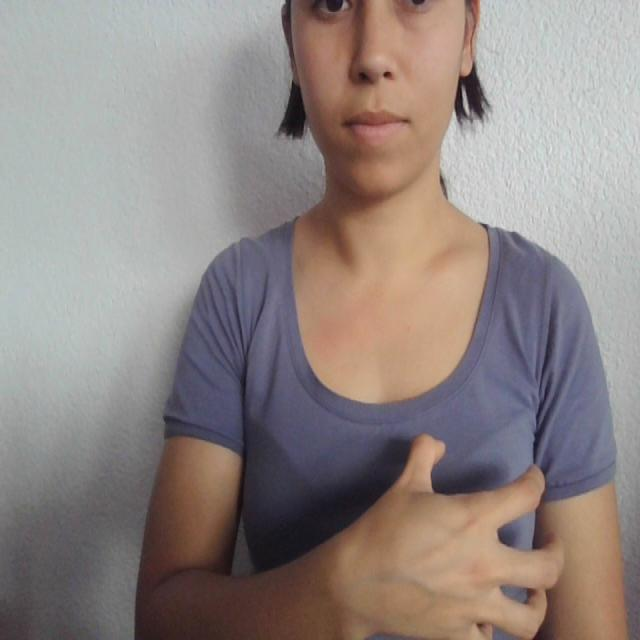Anne: (243, 429, 563, 640)
